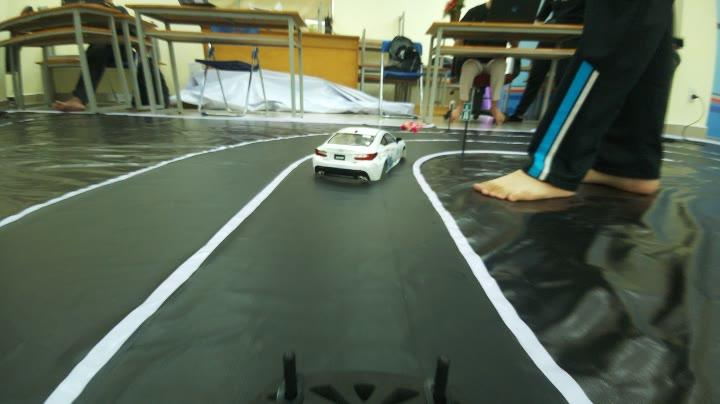car: (311, 117, 404, 186)
